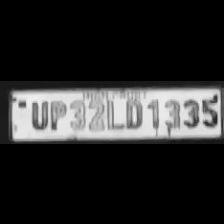1: (144, 96, 162, 128)
2: (86, 96, 106, 130)
3: (65, 96, 85, 130), (160, 95, 180, 129), (180, 95, 200, 127)
5: (198, 93, 220, 126)
D: (122, 96, 144, 128)
L: (105, 94, 123, 130)
P: (48, 96, 66, 130)
U: (27, 96, 49, 130)
